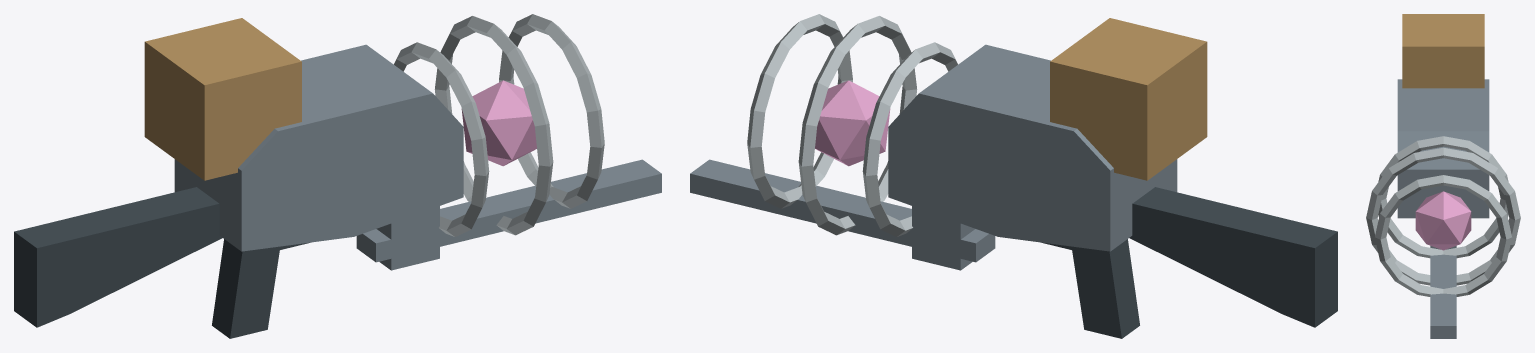
File: w31-eventide.glb
3 renders of one model, left to right at view 1: azimuth 30°, elevation 25°; view 2: azimuth 150°, elevation 25°; view 3: azimuth 270°, elevation 25°, orthographic. The views are drawn at different scales.
Parts seen in each view (by area): view 1: w31-eventide__receiver, w31-eventide__reactor_pack, w31-eventide__stock, w31-eventide__field_spine, w31-eventide__field_ring_1, w31-eventide__grip, w31-eventide__field_ring_2, w31-eventide__suspended_core, w31-eventide__field_ring_0, w31-eventide__field_spine_mount; view 2: w31-eventide__receiver, w31-eventide__reactor_pack, w31-eventide__stock, w31-eventide__field_spine, w31-eventide__field_ring_1, w31-eventide__grip, w31-eventide__field_ring_2, w31-eventide__suspended_core, w31-eventide__field_ring_0, w31-eventide__field_spine_mount; view 3: w31-eventide__receiver, w31-eventide__reactor_pack, w31-eventide__field_ring_2, w31-eventide__field_ring_1, w31-eventide__field_ring_0, w31-eventide__suspended_core, w31-eventide__field_spine.
Part boxes in pixels (x1,y1,x2,y2): w31-eventide__receiver: [174, 44, 463, 251]; w31-eventide__reactor_pack: [144, 18, 301, 180]; w31-eventide__stock: [14, 187, 222, 327]; w31-eventide__field_spine: [356, 159, 661, 262]; w31-eventide__field_ring_1: [434, 16, 553, 235]; w31-eventide__grip: [212, 239, 280, 338]; w31-eventide__field_ring_2: [499, 14, 604, 208]; w31-eventide__suspended_core: [461, 80, 536, 166]; w31-eventide__field_ring_0: [394, 42, 489, 236]; w31-eventide__field_spine_mount: [376, 206, 439, 270]; w31-eventide__receiver: [888, 44, 1177, 251]; w31-eventide__reactor_pack: [1050, 18, 1207, 180]; w31-eventide__stock: [1129, 187, 1337, 327]; w31-eventide__field_spine: [690, 159, 995, 262]; w31-eventide__field_ring_1: [798, 16, 917, 235]; w31-eventide__grip: [1071, 239, 1139, 338]; w31-eventide__field_ring_2: [747, 14, 852, 208]; w31-eventide__suspended_core: [815, 80, 890, 166]; w31-eventide__field_ring_0: [862, 42, 957, 236]; w31-eventide__field_spine_mount: [912, 206, 975, 270]; w31-eventide__receiver: [1397, 79, 1489, 218]; w31-eventide__reactor_pack: [1402, 14, 1484, 88]; w31-eventide__field_ring_2: [1375, 175, 1511, 296]; w31-eventide__field_ring_1: [1366, 147, 1520, 285]; w31-eventide__field_ring_0: [1378, 136, 1508, 258]; w31-eventide__suspended_core: [1415, 191, 1471, 250]; w31-eventide__field_spine: [1430, 254, 1456, 338].
Bounding box in the file's own units: 1.03 × 0.44 × 0.32.
